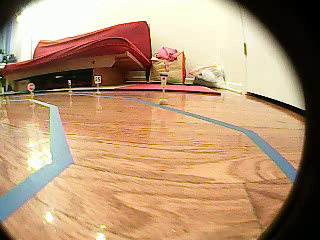Red Traffic Light: (160, 74, 168, 89)
Speed Limit 25: (93, 75, 102, 85)
Stop Sign: (27, 83, 36, 92)
